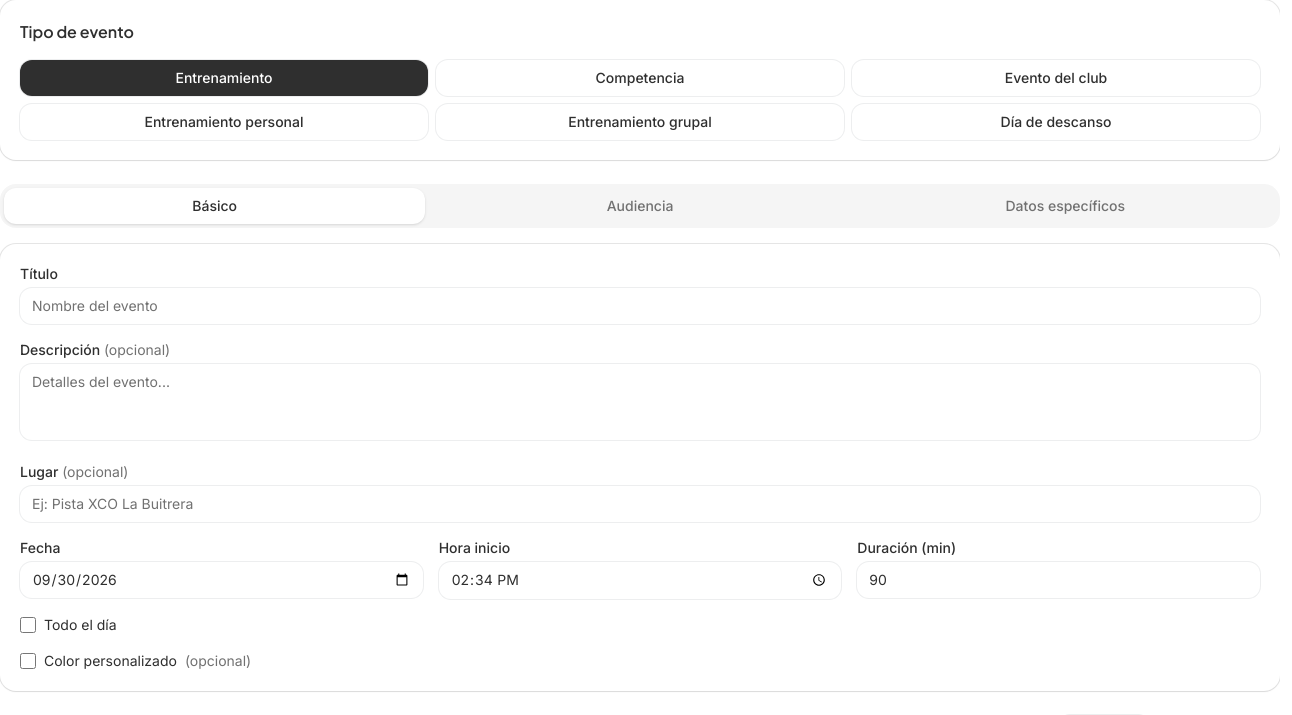
Test: EventForm — prefill CF6 › dropdown vacio + event_type=competition → link 'Crear nueva válida' con href correcto
Click the radio button "Competencia".
click(640, 78)  # box 436,60 -> 844,96
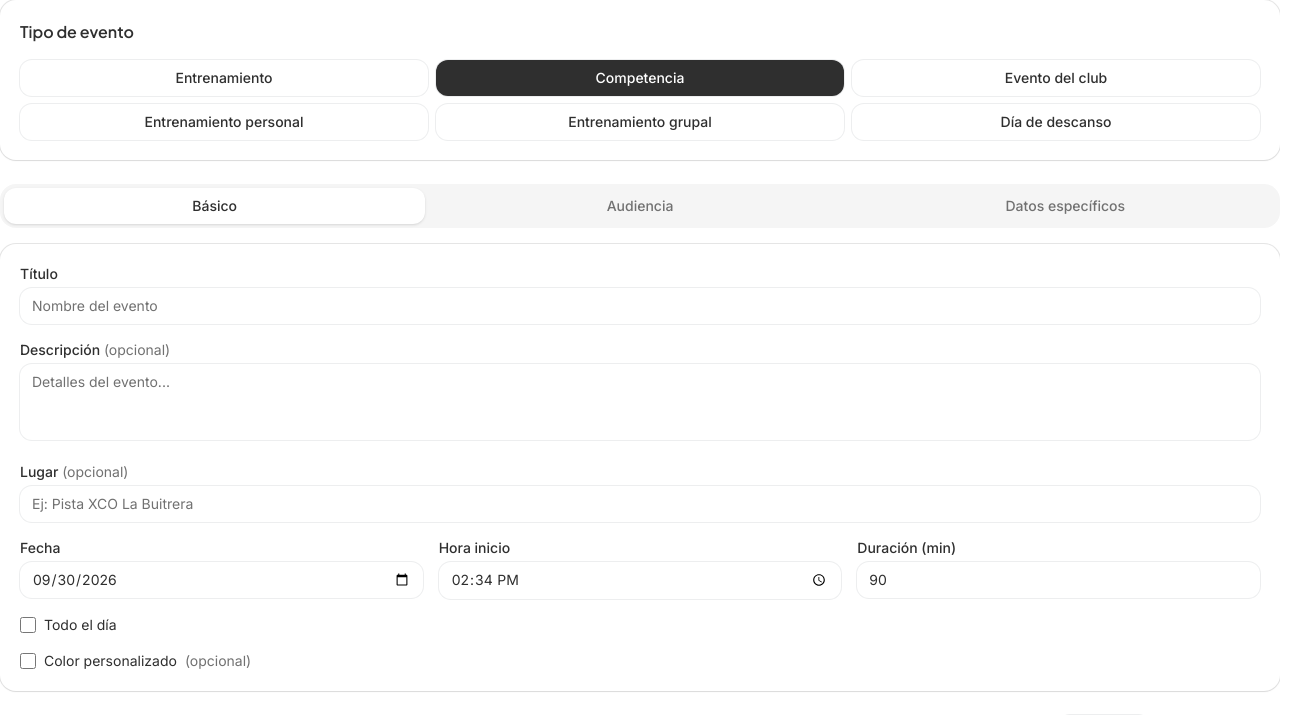
Click the tab "Datos específicos".
click(1065, 206)  # box 855,188 -> 1276,224
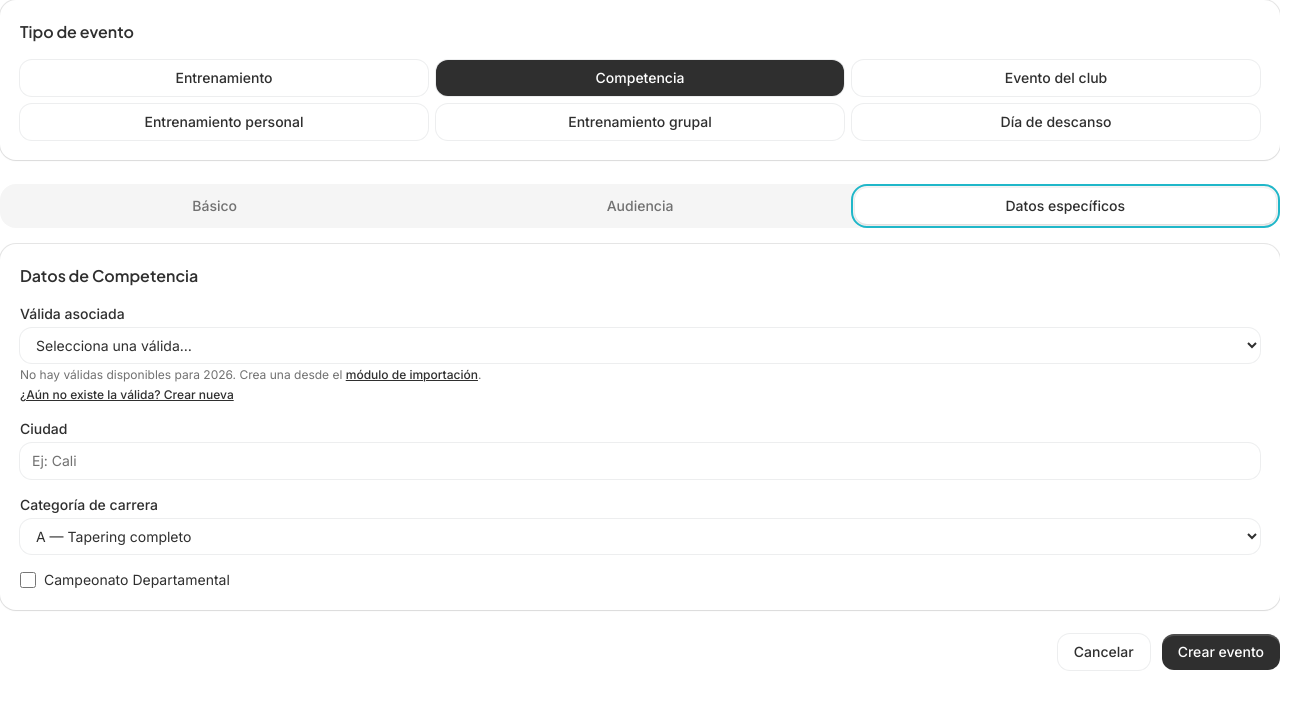
Now the link with test id "event-race-event-create-link" is shown, box 20,387 -> 234,402
